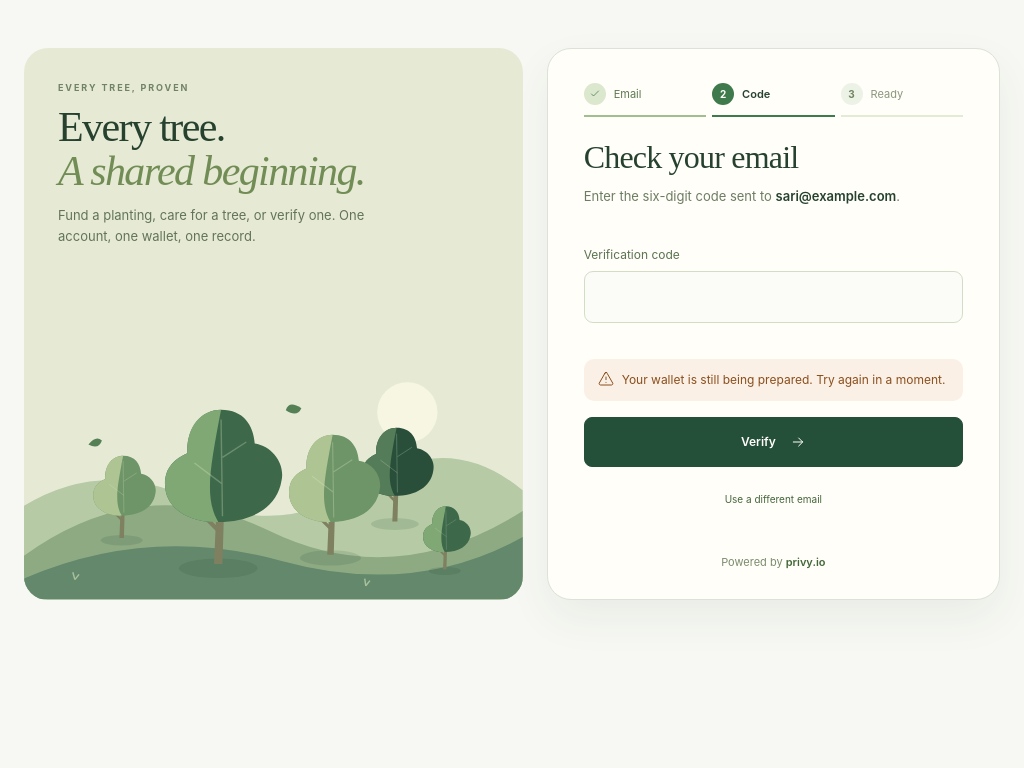
Test case: S02 around the card › "Use a different email" with a session ends it first
Expected: the message "Your wallet is still being prepared. Try again in a moment." is shown, [584, 359, 963, 401]
What coordinates should you click on to do the following:
click the button "Use a different email"
I would click on:
 (773, 499)
Its box is [725, 483, 822, 515].
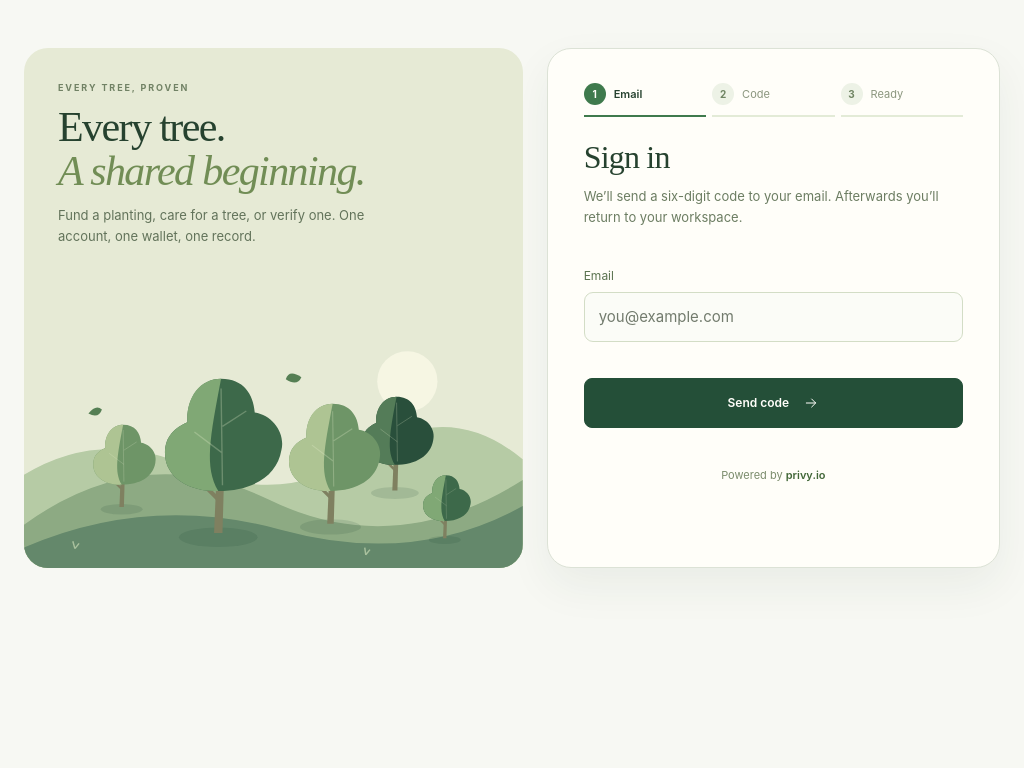
Now the heading "Sign in" is shown, box [584, 139, 670, 175]
